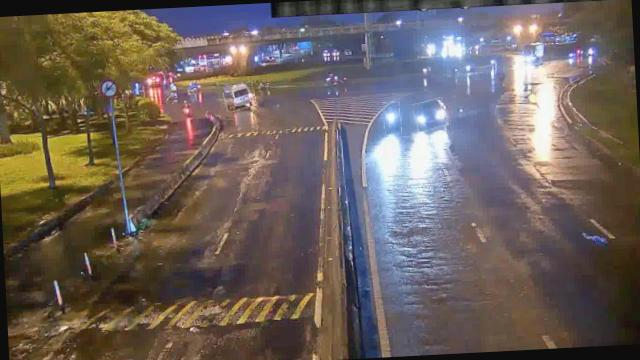Bike: (382, 102, 402, 134)
Bus: (223, 82, 256, 110)
Car: (412, 98, 447, 130)
